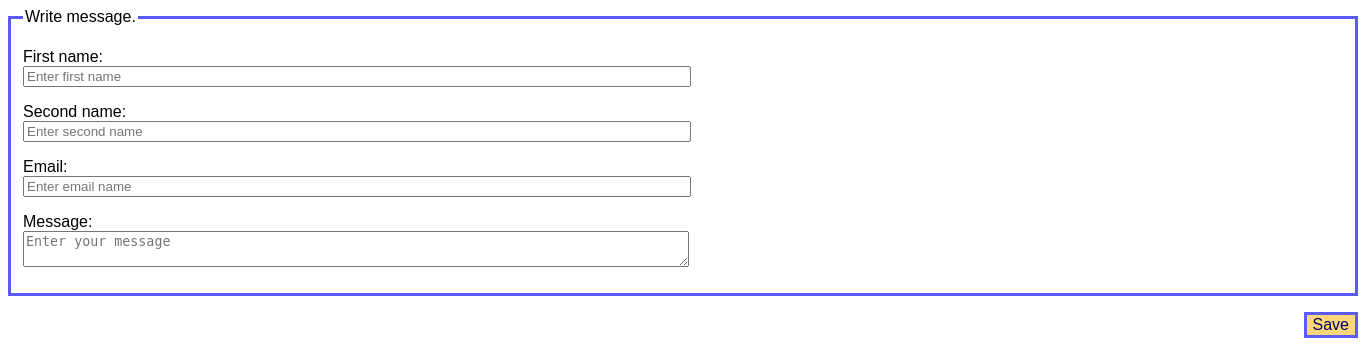
Test: Message Form › Display "first name" error
The image size is (1366, 355).
Type "aa" into the field labelled "First name:" at (357, 76), box [23,66,691,87]
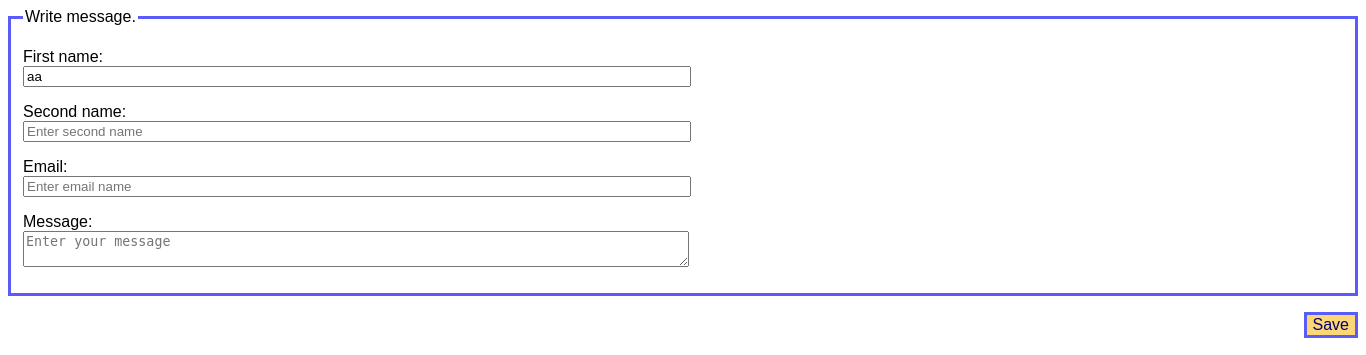
Click the button "Save" at (1331, 325), box [1304,312,1358,338]
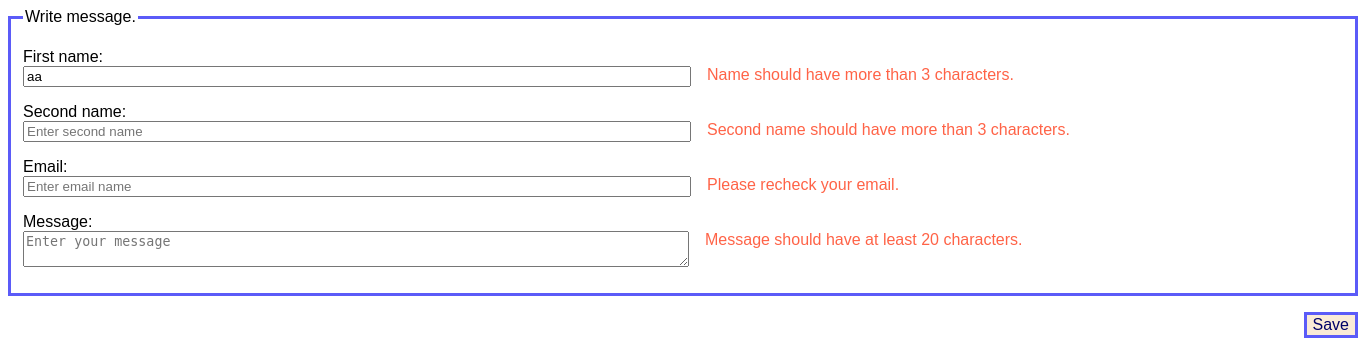
Now the text "Name should have more than 3 characters." is shown, box [691,66,1014,84]
